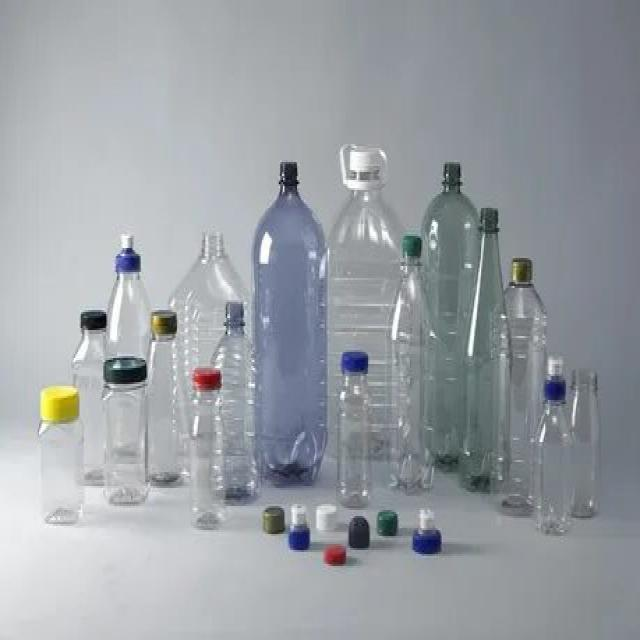green: (461, 208, 509, 490)
